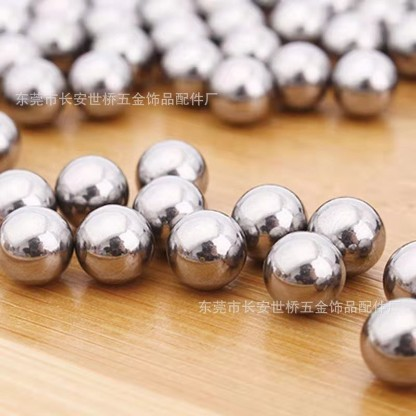ironball: (262, 229, 345, 314), (165, 208, 247, 290), (73, 203, 154, 284), (306, 195, 385, 276), (230, 183, 306, 261), (0, 204, 73, 285), (132, 174, 205, 251), (54, 154, 128, 227), (359, 296, 415, 386), (330, 47, 397, 118), (206, 55, 273, 124), (67, 49, 133, 119), (1, 56, 66, 126), (268, 40, 330, 111), (160, 36, 222, 106), (135, 138, 208, 194), (90, 23, 153, 86), (0, 167, 56, 230), (26, 15, 86, 72), (320, 9, 383, 55), (268, 0, 330, 42), (149, 11, 209, 53), (382, 238, 415, 314), (219, 23, 280, 63), (206, 0, 265, 41), (0, 31, 41, 84), (385, 8, 415, 78), (82, 5, 139, 37), (138, 0, 195, 27), (355, 0, 415, 24), (0, 109, 20, 173), (31, 0, 87, 22), (0, 0, 30, 35), (193, 0, 250, 17), (88, 0, 140, 11), (320, 0, 360, 14), (0, 0, 33, 9), (249, 0, 281, 8)
